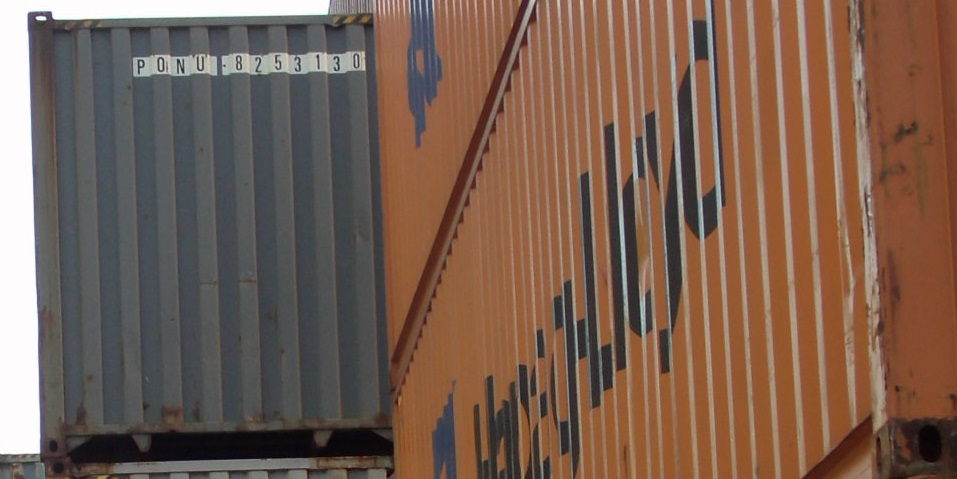container_no_door: (22, 1, 393, 460)
